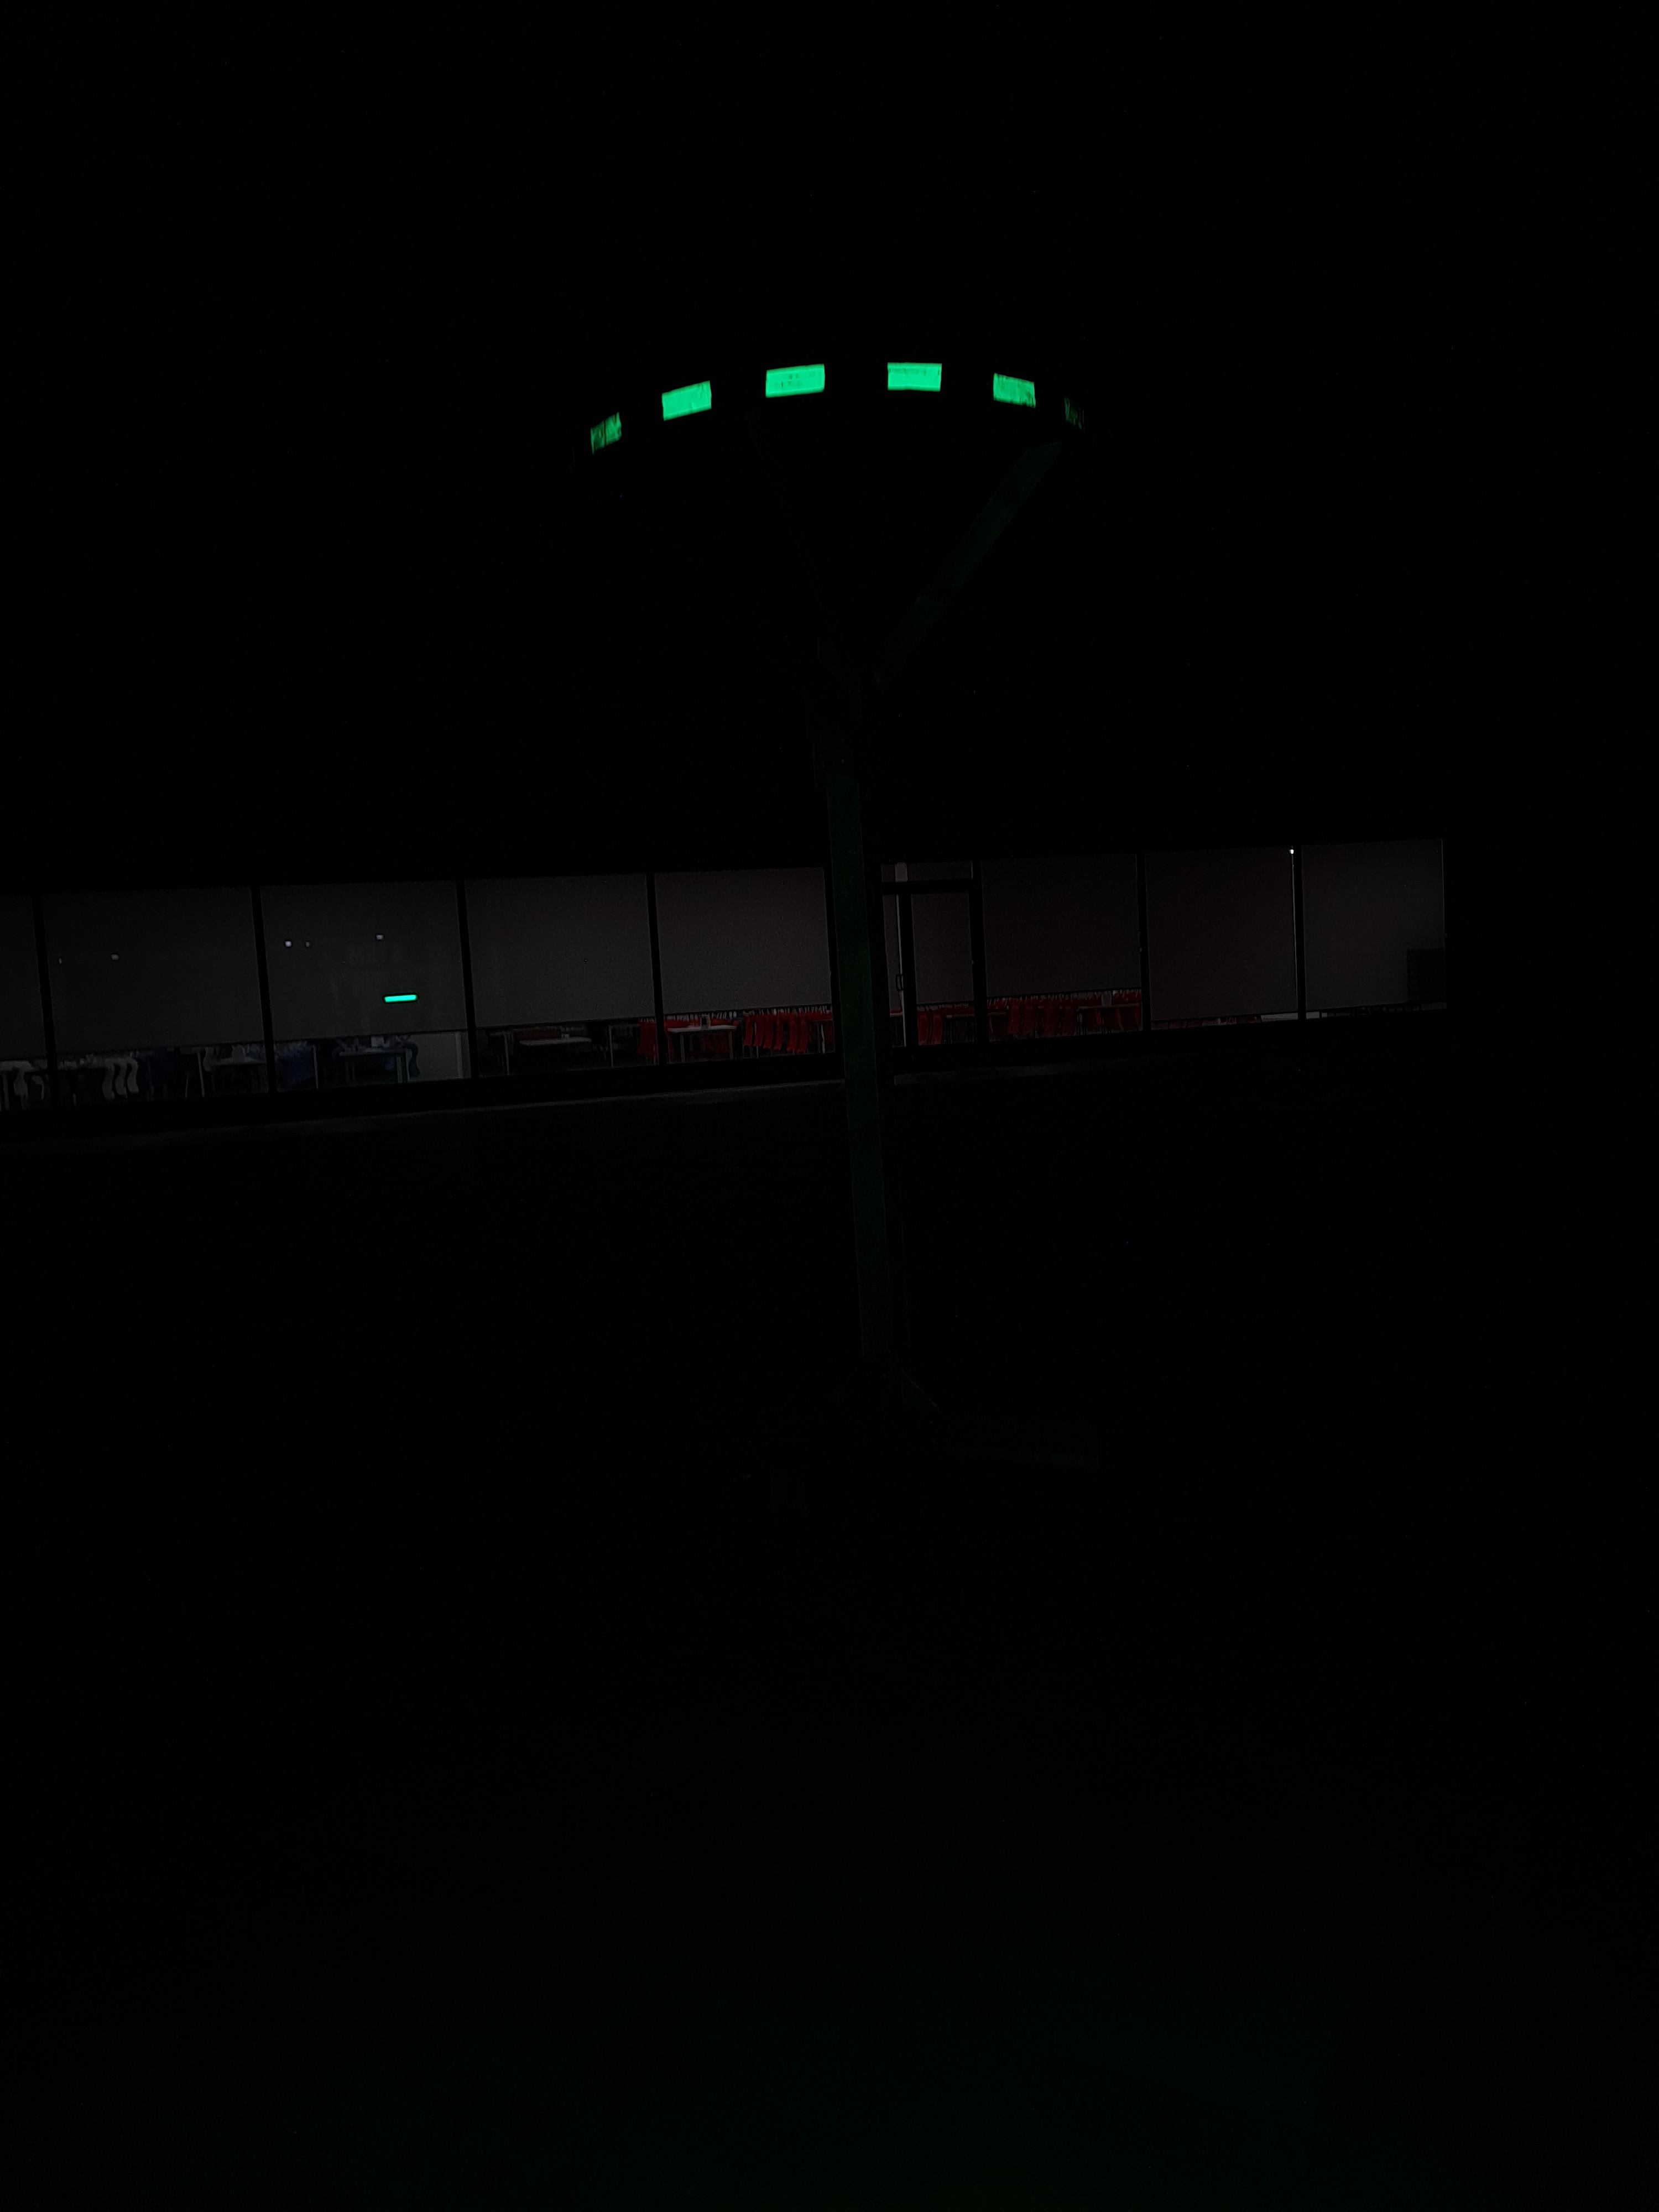hoop: (570, 347, 1042, 460)
